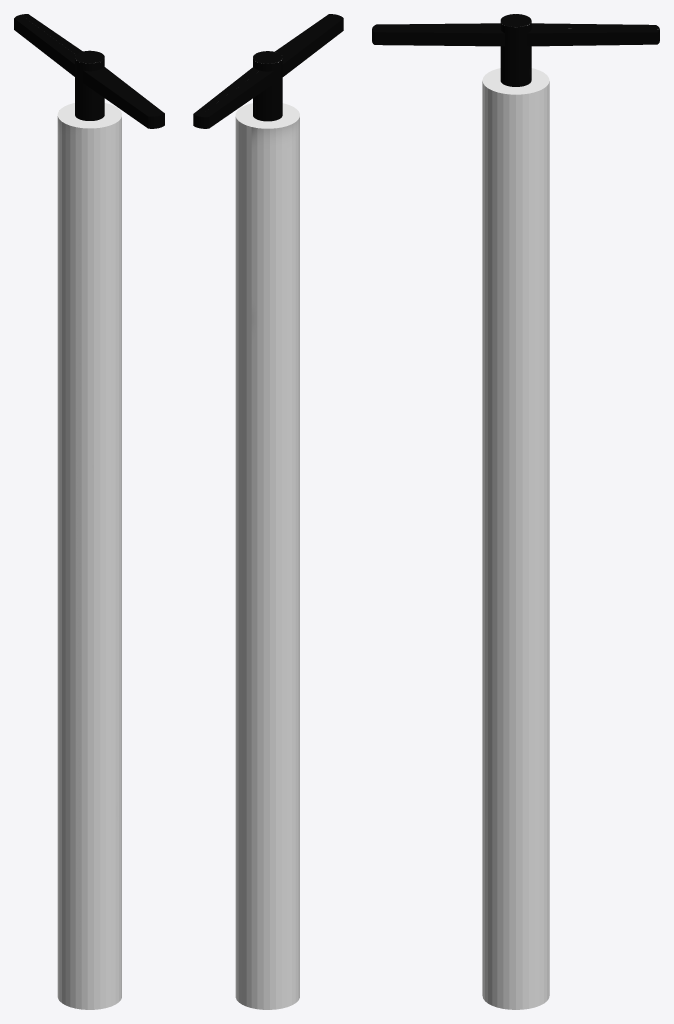
The model's file is lamp.fbx.
The picture shows the model from 3 angles, left to right: view 1: azimuth 30°, elevation 25°; view 2: azimuth 150°, elevation 25°; view 3: azimuth 270°, elevation 25°; orthographic projection. The views are drawn at different scales.
Parts seen in each view (by area): view 1: lamp; view 2: lamp; view 3: lamp.
Boxes of the visible parts, x1,y1,x2,y2 form: lamp: (14,14,164,1009); lamp: (193,14,343,1009); lamp: (372,14,659,1009).
Size of the model in its own units: 40.91 by 656 by 175.
1 material, 1 textured.
